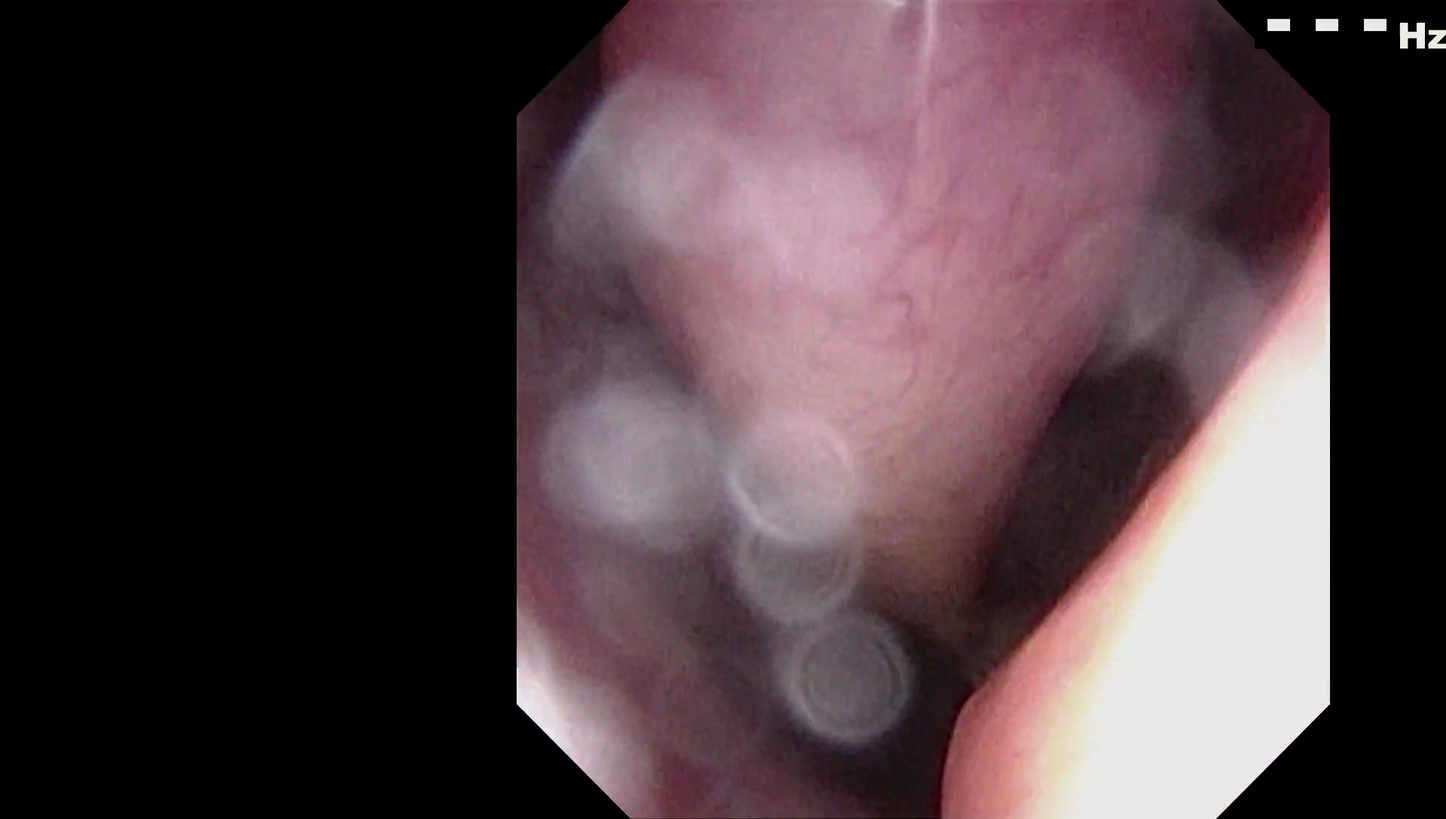close_wall: (989, 327, 1329, 819)
next: (943, 249, 1232, 681), (761, 590, 1004, 819), (1156, 20, 1318, 331)
